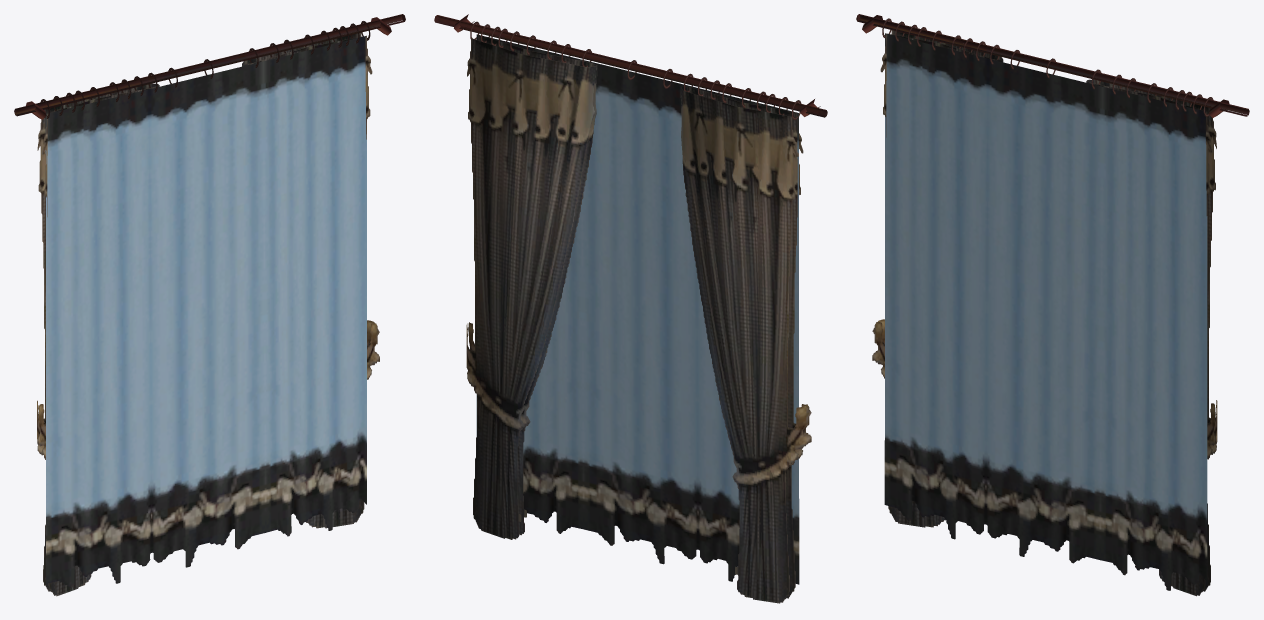
File: furni_0200074_01.FBX
3 renders of one model, left to right at view 1: azimuth 30°, elevation 25°; view 2: azimuth 150°, elevation 25°; view 3: azimuth 330°, elevation 25°, orthographic.
Parts seen in each view (by area): view 1: furni_0200074; view 2: furni_0200074; view 3: furni_0200074.
Part boxes in pixels (x1,y1,x2,y2): furni_0200074: [14, 14, 405, 596]; furni_0200074: [434, 14, 827, 603]; furni_0200074: [856, 14, 1249, 596].
Bounding box in the file's own units: 177 × 218 × 14.99.
